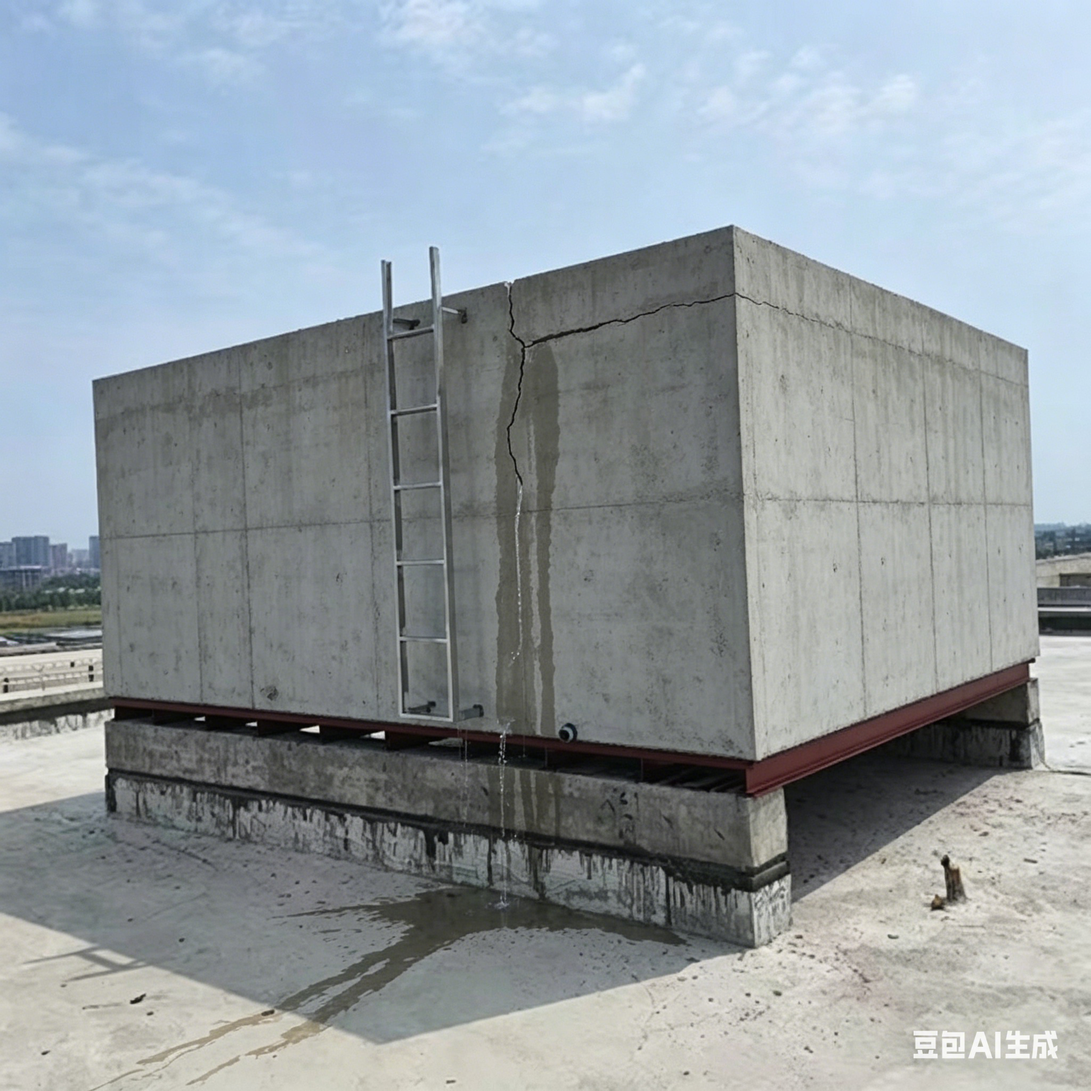Leakage: (485, 313, 556, 929), (371, 900, 479, 953), (570, 911, 694, 943), (307, 981, 353, 1045)
